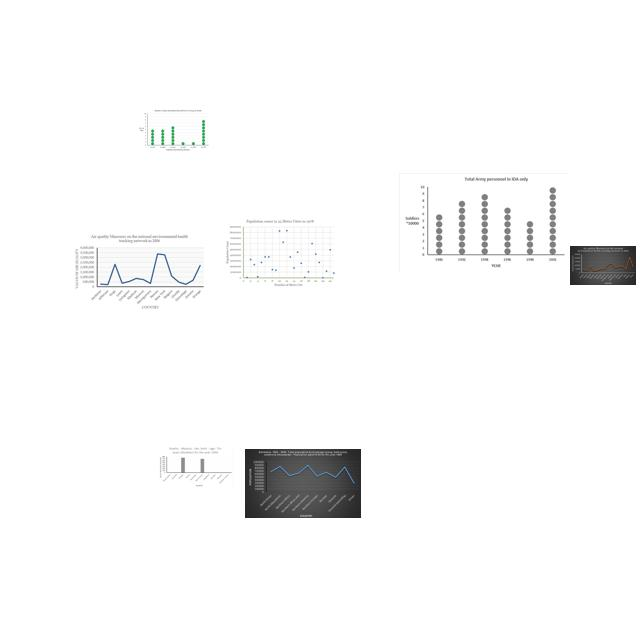Graph: (399, 173, 568, 272), (72, 233, 206, 312), (245, 449, 361, 518), (225, 219, 338, 288), (138, 108, 210, 153), (158, 446, 234, 488), (570, 246, 636, 285)
